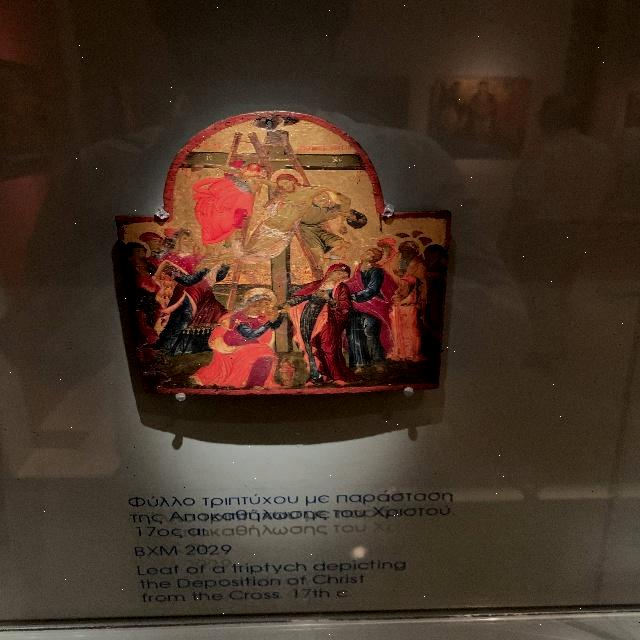aura: (243, 287, 279, 312), (269, 168, 308, 190), (322, 260, 354, 282), (395, 237, 423, 257), (356, 246, 384, 265), (375, 235, 401, 254)
christ_crucifixion: (199, 161, 346, 268)
cross: (178, 128, 374, 348)
mary: (285, 264, 358, 386)
urn: (277, 360, 295, 387)
